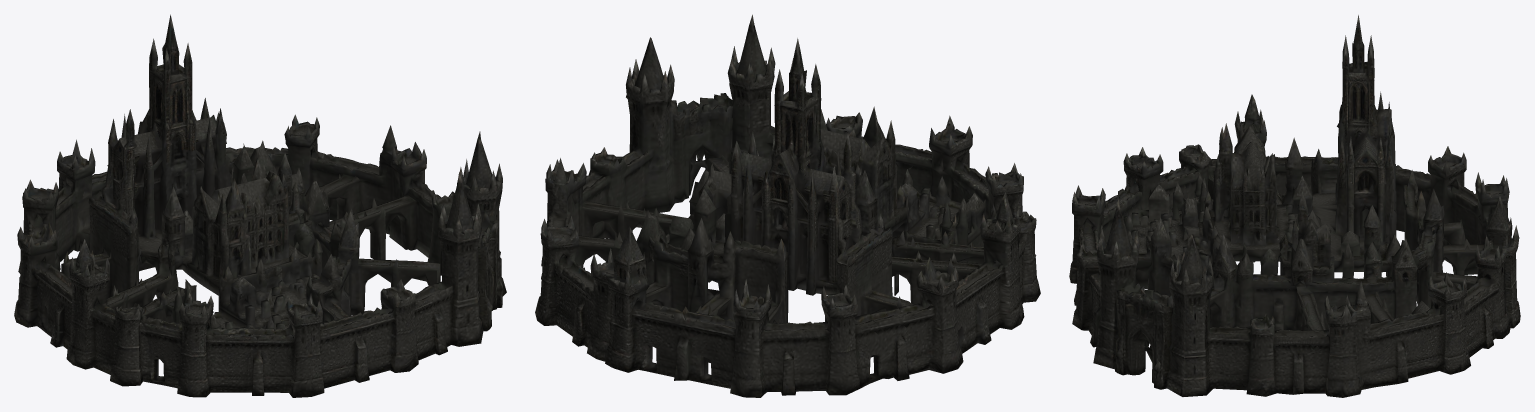
Rendered from undead-4.glb.
3 views of the same model, side by side, from view 1: azimuth 30°, elevation 25°; view 2: azimuth 150°, elevation 25°; view 3: azimuth 270°, elevation 25° (orthographic). The views are drawn at different scales.
Visible parts, largest first — view 1: tripo_node_fdf4b48e-fc37-46e2-aede-af1b41303a56; view 2: tripo_node_fdf4b48e-fc37-46e2-aede-af1b41303a56; view 3: tripo_node_fdf4b48e-fc37-46e2-aede-af1b41303a56.
Boxes of the visible parts, x1,y1,x2,y2 form: tripo_node_fdf4b48e-fc37-46e2-aede-af1b41303a56: [14, 14, 506, 397]; tripo_node_fdf4b48e-fc37-46e2-aede-af1b41303a56: [535, 14, 1040, 397]; tripo_node_fdf4b48e-fc37-46e2-aede-af1b41303a56: [1069, 15, 1520, 397].
Size of the model in its own units: 1 by 0.6505 by 0.9986.
Materials: 1 (1 with a texture image).
